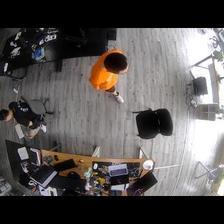normal: (89, 46, 133, 104), (1, 94, 49, 144)
